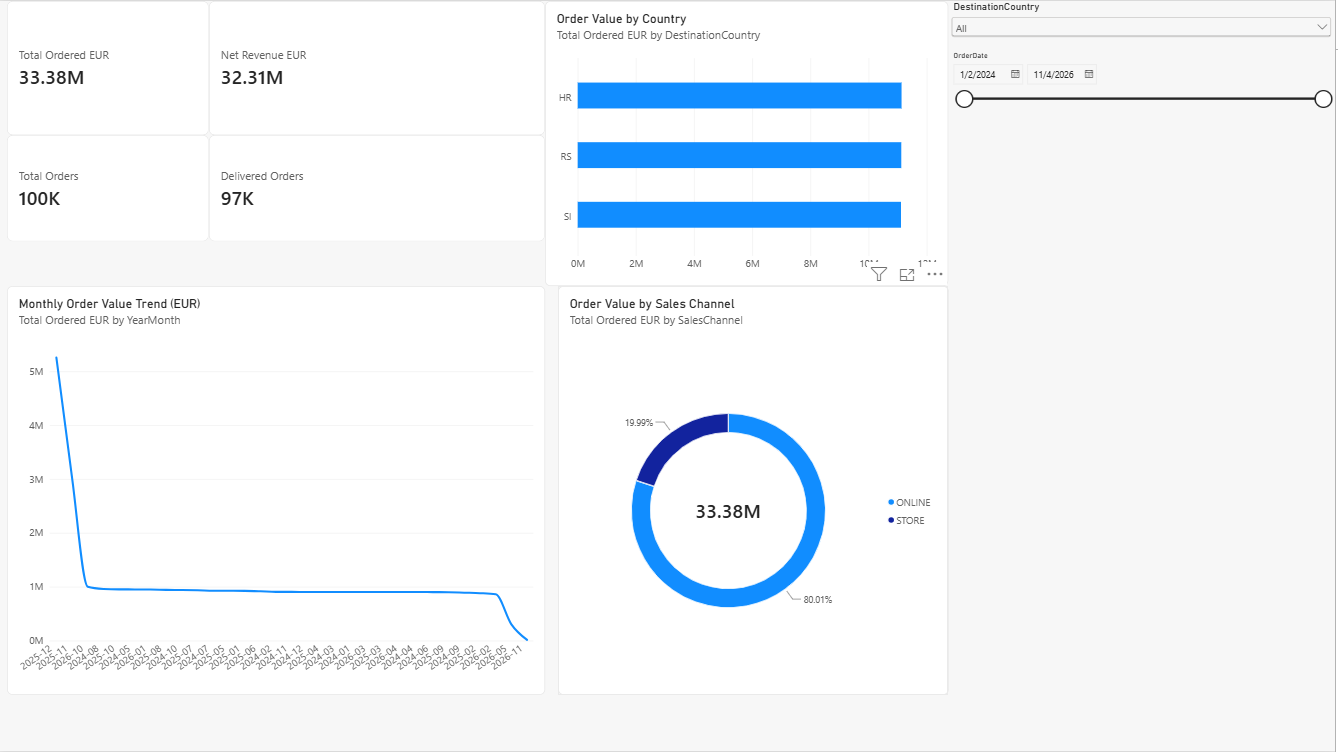

What the dashboard file says about the page in this screenshot:
{"tool":"powerbi","page":{"name":"Sales Performance","canvas":[1920,1080],"ordinal":0},"visuals":[{"type":"cardVisual","fields":{"Data":["DailySales.Total Ordered EUR"]},"box":[10,0,290,193.3],"z":0},{"type":"cardVisual","fields":{"Data":["DailySales.Net Revenue EUR"]},"box":[300,0,483.3,193.3],"z":1000},{"type":"cardVisual","fields":{"Data":["DailySales.Total Orders"]},"box":[10,193.3,290,153.3],"z":2000},{"type":"cardVisual","fields":{"Data":["DailySales.Delivered Orders"]},"box":[300,193.3,483.3,153.3],"z":3000},{"type":"lineChart","title":"Monthly Order Value Trend (EUR)","fields":{"Category":["DailySales.YearMonth"],"Y":["DailySales.Total Ordered EUR"]},"box":[10,410,774,588],"z":4000},{"type":"clusteredBarChart","title":"Order Value by Country","fields":{"Category":["DailySales.DestinationCountry"],"Y":["DailySales.Total Ordered EUR"]},"box":[784,0,580,410],"z":4001},{"type":"donutChart","title":"Order Value by Sales Channel","fields":{"Category":["DailySales.SalesChannel"],"Y":["DailySales.Total Ordered EUR"]},"box":[802,410,562,588],"z":4002},{"type":"slicer","fields":{"Values":["DailySales.DestinationCountry"]},"box":[1364,0,556,72],"z":4003},{"type":"slicer","fields":{"Values":["DailySales.OrderDate"]},"box":[1364,72,556,122],"z":4004}]}

Visuals, with their boxes in screenshot pixels (x1, y1, x2, y2), scaled from the page's 1920x1080 canvas onto the 1338x752 screenshot:
cardVisual - DailySales.Total Ordered EUR: left=7, top=0, right=209, bottom=135
cardVisual - DailySales.Net Revenue EUR: left=209, top=0, right=546, bottom=135
cardVisual - DailySales.Total Orders: left=7, top=135, right=209, bottom=241
cardVisual - DailySales.Delivered Orders: left=209, top=135, right=546, bottom=241
"Monthly Order Value Trend (EUR)" lineChart: left=7, top=285, right=546, bottom=695
"Order Value by Country" clusteredBarChart: left=546, top=0, right=951, bottom=285
"Order Value by Sales Channel" donutChart: left=559, top=285, right=951, bottom=695
slicer - DailySales.DestinationCountry: left=951, top=0, right=1337, bottom=50
slicer - DailySales.OrderDate: left=951, top=50, right=1337, bottom=135
